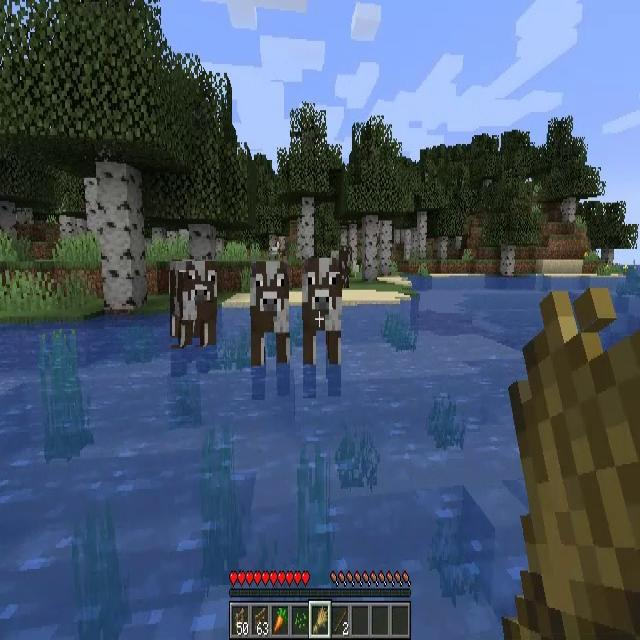cow: (302, 258, 341, 364), (252, 259, 290, 367), (170, 261, 217, 345), (332, 249, 351, 289)
